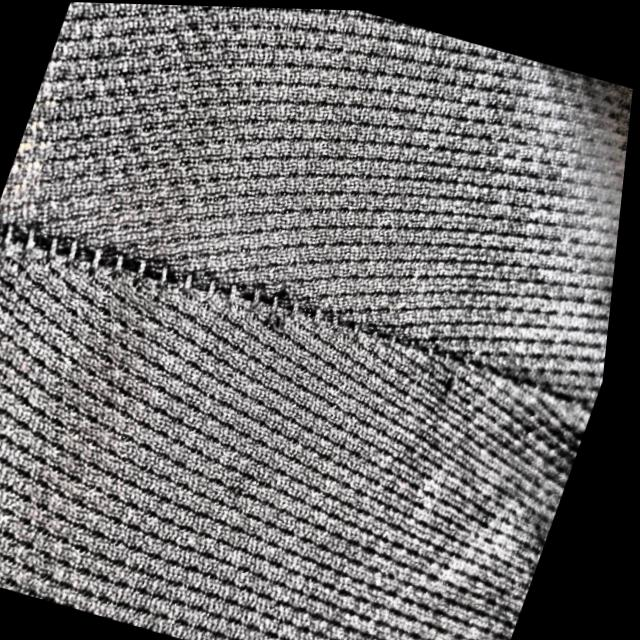Stitch: (0, 207, 394, 361)
